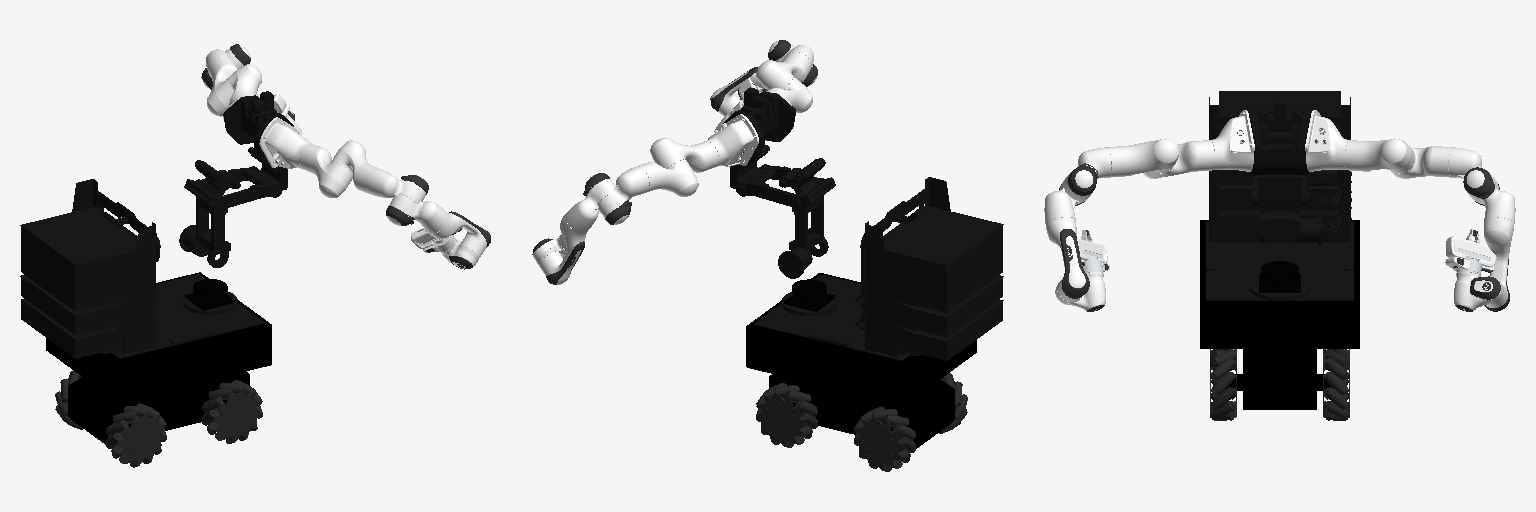
--- What the picture shows (computed from the rendered views, not written in the file) ---
The picture shows the robot from 3 angles, left to right: view 1: azimuth 30°, elevation 25°; view 2: azimuth 150°, elevation 25°; view 3: azimuth 270°, elevation 25°; orthographic projection.
Model curi with 38 links and 37 joints (17 revolute, 4 prismatic, 16 fixed), rooted at summit_xls_base_footprint, posed all joints at 0 but 2 set to mid-range because 0 is outside their limits (panda_left_joint4 = -1.57, panda_right_joint4 = -1.57).
Visible links, largest first — view 1: control_box, summit_xls_base_link, summit_xls_back_right_wheel_link, summit_xls_front_right_wheel_link, torso_link_b2, torso_end, torso_link_c1, panda_right_link0, panda_right_link1, panda_right_link4, panda_right_link3, panda_left_link2 (+7 smaller); view 2: control_box, summit_xls_base_link, summit_xls_back_left_wheel_link, summit_xls_front_left_wheel_link, torso_link_b2, torso_end, torso_link_c1, panda_left_link0, panda_left_link3, panda_left_link1, panda_left_link5, panda_left_link4 (+8 smaller); view 3: control_box, summit_xls_base_link, torso_end, panda_right_link2, panda_left_link1, panda_right_link5, panda_left_link0, panda_right_link0, summit_xls_front_left_wheel_link, summit_xls_front_right_wheel_link, panda_right_link3, panda_left_link4 (+10 smaller).
Boxes of the visible links, x1,y1,x2,y2 form: control_box: (20, 179, 263, 358); summit_xls_base_link: (46, 272, 271, 444); summit_xls_back_right_wheel_link: (106, 403, 166, 467); summit_xls_front_right_wheel_link: (202, 380, 262, 443); torso_link_b2: (179, 182, 230, 267); torso_end: (223, 95, 293, 189); torso_link_c1: (184, 166, 282, 210); panda_right_link0: (259, 117, 311, 168); panda_right_link1: (299, 144, 352, 197); panda_right_link4: (386, 193, 448, 232); panda_right_link3: (367, 169, 428, 203); panda_left_link2: (207, 57, 237, 116); control_box: (754, 177, 1003, 360); summit_xls_base_link: (746, 273, 976, 448); summit_xls_back_left_wheel_link: (854, 406, 915, 471); summit_xls_front_left_wheel_link: (756, 383, 817, 447); torso_link_b2: (778, 180, 828, 278); torso_end: (723, 92, 795, 188); torso_link_c1: (735, 164, 835, 209); panda_left_link0: (704, 114, 758, 166); panda_left_link3: (598, 167, 648, 224); panda_left_link1: (650, 138, 718, 172); panda_left_link5: (538, 214, 587, 284); panda_left_link4: (566, 173, 614, 232); control_box: (1206, 91, 1353, 300); summit_xls_base_link: (1200, 220, 1359, 409); torso_end: (1245, 108, 1314, 207); panda_right_link2: (1107, 138, 1178, 177); panda_left_link1: (1345, 138, 1414, 172); panda_right_link5: (1045, 217, 1089, 301); panda_left_link0: (1305, 110, 1348, 171); panda_right_link0: (1211, 110, 1254, 171); summit_xls_front_left_wheel_link: (1323, 351, 1349, 420); summit_xls_front_right_wheel_link: (1210, 351, 1236, 420); panda_right_link3: (1063, 147, 1111, 200); panda_left_link4: (1463, 167, 1515, 222).
Size in the robot's own frame: 1.62 by 1.7 by 1.39 metres.
Meshes: 23 distinct files referenced, 35 mesh visuals loaded (21 Collada DAE); not drawn: 2 (reference not matched to a file when rendering).

robot.urdf — curi:
<?xml version="1.0" ?>
<!-- =================================================================================== -->
<!-- |    This document was autogenerated by xacro from ../robots/curi.urdf.xacro      | -->
<!-- |    EDITING THIS FILE BY HAND IS NOT RECOMMENDED                                 | -->
<!-- =================================================================================== -->
<robot name="curi">
  <!-- in kg-->
  <!-- =============================================================== -->
  <!-- || This file does not contain official inertial properties   || -->
  <!-- || of panda robot. The values are from the identification    || -->
  <!-- || results published in: Identification of the Franka Emika  || -->
  <!-- || PandaRobot With Retrieval of Feasible Parameters Using    || -->
  <!-- || Penalty-Based Optimization                                || -->
  <!-- || by: Claudio Gaz, Marco Cognetti, Alexander Oliva,         || -->
  <!-- || Paolo Robuffo Giordano, Alessandro de Luca                || -->
  <!-- =============================================================== -->
  <link name="summit_xls_base_footprint">
    <visual>
      <origin rpy="0 0 0" xyz="0 0 0"/>
      <geometry>
        <box size="0.001 0.001 0.001"/>
      </geometry>
    </visual>
  </link>
  <joint name="summit_xls_base_footprint_joint" type="fixed">
    <origin rpy="0 0 0" xyz="0 0 0.127"/>
    <parent link="summit_xls_base_footprint"/>
    <child link="summit_xls_base_link"/>
  </joint>
  <!-- BASE_LINK -->
  <link name="summit_xls_base_link">
    <inertial>
      <mass value="125.0"/>
      <origin xyz="0 0 0"/>
      <inertia ixx="1.391" ixy="0.004" ixz="0.0" iyy="6.853" iyz="0.0" izz="6.125"/>
    </inertial>
    <visual>
      <origin rpy="0 0 0" xyz="0 0 0"/>
      <geometry>
        <mesh filename="../meshes/robotnik/bases/summit_xls_chassis.dae"/>
      </geometry>
      <material name="black">
        <color rgba="0.0 0.0 0.0 1"/>
      </material>
    </visual>
    <collision>
      <origin rpy="0 0 0 " xyz="0 0 0"/>
      <geometry>
        <mesh filename="../meshes/robotnik/bases/summit_xls_chassis.stl"/>
      </geometry>
    </collision>
  </link>
  <joint name="summit_xls_front_right_wheel_joint" type="fixed">
    <parent link="summit_xls_base_link"/>
    <child link="summit_xls_front_right_wheel_link"/>
    <origin rpy="0 0 0" xyz="0.2225 -0.2045 0.0"/>
  </joint>
  <link name="summit_xls_front_right_wheel_link">
    <visual>
      <origin rpy="0 0 0" xyz="0 0 0"/>
      <geometry>
        <mesh filename="../meshes/robotnik/wheels/omni_wheel_2.dae"/>
      </geometry>
      <material name="darkgrey">
        <color rgba="0.2 0.2 0.2 1"/>
      </material>
    </visual>
    <collision>
      <origin rpy="1.5707963267948966 0 0" xyz="0 0 0"/>
      <geometry>
        <cylinder length="0.087" radius="0.127"/>
      </geometry>
    </collision>
    <inertial>
      <mass value="6.5"/>
      <origin xyz="0 0 0"/>
      <inertia ixx="0.0303095" ixy="0" ixz="0" iyy="0.05241925" iyz="0" izz="0.0303095"/>
    </inertial>
  </link>
  <joint name="summit_xls_front_left_wheel_joint" type="fixed">
    <parent link="summit_xls_base_link"/>
    <child link="summit_xls_front_left_wheel_link"/>
    <origin rpy="0 0 0" xyz="0.2225 0.2045 0.0"/>
  </joint>
  <link name="summit_xls_front_left_wheel_link">
    <visual>
      <origin rpy="0 0 0" xyz="0 0 0"/>
      <geometry>
        <mesh filename="../meshes/robotnik/wheels/omni_wheel_1.dae"/>
      </geometry>
      <material name="darkgrey">
        <color rgba="0.2 0.2 0.2 1"/>
      </material>
    </visual>
    <collision>
      <origin rpy="1.5707963267948966 0 0" xyz="0 0 0"/>
      <geometry>
        <cylinder length="0.087" radius="0.127"/>
      </geometry>
    </collision>
    <inertial>
      <mass value="6.5"/>
      <origin xyz="0 0 0"/>
      <inertia ixx="0.0303095" ixy="0" ixz="0" iyy="0.05241925" iyz="0" izz="0.0303095"/>
    </inertial>
  </link>
  <joint name="summit_xls_back_left_wheel_joint" type="fixed">
    <parent link="summit_xls_base_link"/>
    <child link="summit_xls_back_left_wheel_link"/>
    <origin rpy="0 0 0" xyz="-0.2225 0.2045 0.0"/>
  </joint>
  <link name="summit_xls_back_left_wheel_link">
    <visual>
      <origin rpy="0 0 0" xyz="0 0 0"/>
      <geometry>
        <mesh filename="../meshes/robotnik/wheels/omni_wheel_1.dae"/>
      </geometry>
      <material name="darkgrey">
        <color rgba="0.2 0.2 0.2 1"/>
      </material>
    </visual>
    <collision>
      <origin rpy="1.5707963267948966 0 0" xyz="0 0 0"/>
      <geometry>
        <cylinder length="0.087" radius="0.127"/>
      </geometry>
    </collision>
    <inertial>
      <mass value="6.5"/>
      <origin xyz="0 0 0"/>
      <inertia ixx="0.0303095" ixy="0" ixz="0" iyy="0.05241925" iyz="0" izz="0.0303095"/>
    </inertial>
  </link>
  <joint name="summit_xls_back_right_wheel_joint" type="fixed">
    <parent link="summit_xls_base_link"/>
    <child link="summit_xls_back_right_wheel_link"/>
    <origin rpy="0 0 0" xyz="-0.2225 -0.2045 0.0"/>
  </joint>
  <link name="summit_xls_back_right_wheel_link">
    <visual>
      <origin rpy="0 0 0" xyz="0 0 0"/>
      <geometry>
        <mesh filename="../meshes/robotnik/wheels/omni_wheel_2.dae"/>
      </geometry>
      <material name="darkgrey">
        <color rgba="0.2 0.2 0.2 1"/>
      </material>
    </visual>
    <collision>
      <origin rpy="1.5707963267948966 0 0" xyz="0 0 0"/>
      <geometry>
        <cylinder length="0.087" radius="0.127"/>
      </geometry>
    </collision>
    <inertial>
      <mass value="6.5"/>
      <origin xyz="0 0 0"/>
      <inertia ixx="0.0303095" ixy="0" ixz="0" iyy="0.05241925" iyz="0" izz="0.0303095"/>
    </inertial>
  </link>
  <joint name="torso_joint_summit_xls_base_footprint" type="fixed">
    <parent link="summit_xls_base_footprint"/>
    <child link="control_box"/>
    <origin rpy="0 0 0" xyz="0 0 0.52262"/>
  </joint>
  <link name="control_box">
    <visual>
      <origin rpy="0 0 0" xyz="0 0 0"/>
      <geometry>
        <mesh filename="../meshes/clover/visual/control_box.dae"/>
      </geometry>
    </visual>
    <collision>
      <origin rpy="0 0 0" xyz="0 0 0"/>
      <geometry>
        <mesh filename="../meshes/clover/collision/control_box.stl"/>
      </geometry>
    </collision>
    <inertial>
      <!-- Estimated guesses from CAD -->
      <origin rpy="0 0 0" xyz="-0.221652 1.4173e-02 0.165597"/>
      <mass value="37.813"/>
      <inertia ixx="1.672305973" ixy="-0.023504956" ixz="-0.565170381" iyy="2.616747309" iyz="0.046623093" izz="2.524344244"/>
    </inertial>
  </link>
  <link name="torso_base1">
    <visual>
      <origin rpy="0 0 0" xyz="0 0 0"/>
      <geometry>
        <mesh filename="../meshes/clover/visual/torso_base1.dae"/>
      </geometry>
    </visual>
    <collision>
      <origin rpy="0 0 0" xyz="0 0 0"/>
      <geometry>
        <mesh filename="../meshes/clover/collision/torso_base1.stl"/>
      </geometry>
    </collision>
    <inertial>
      <origin rpy="0 0 0" xyz="0 0 0.02555"/>
      <mass value="1.18"/>
      <inertia ixx="0.00241116" ixy="0" ixz="0" iyy="0.00241116" iyz="0" izz="0.00362611"/>
    </inertial>
  </link>
  <joint name="torso_joint1" type="fixed">
    <origin rpy="0 0 0" xyz="0.2375 0 0.015"/>
    <parent link="control_box"/>
    <child link="torso_base1"/>
  </joint>
  <link name="torso_base2">
    <visual>
      <origin rpy="0 0 0" xyz="0 0 0"/>
      <geometry>
        <mesh filename="../meshes/clover/visual/torso_base2.dae"/>
      </geometry>
    </visual>
    <collision>
      <origin rpy="0 0 0" xyz="0 0 0"/>
      <geometry>
        <mesh filename="../meshes/clover/collision/torso_base2.stl"/>
      </geometry>
    </collision>
    <inertial>
      <origin rpy="0 0 0" xyz="-0.05478 0.03332 -0.07616"/>
      <mass value="35.66"/>
      <inertia ixx="0.87275935" ixy="-0.06173772" ixz="0.01895727" iyy="0.57302356" iyz="0.11888755" izz="1.06212354"/>
    </inertial>
  </link>
  <joint name="torso_actuated_joint1" type="revolute">
    <safety_controller k_position="100.0" k_velocity="40.0" soft_lower_limit="-1.5" soft_upper_limit="1.5"/>
    <origin rpy="0 0 0" xyz="0 0 0.215"/>
    <parent link="torso_base1"/>
    <child link="torso_base2"/>
    <axis xyz="0 0 1"/>
    <limit acceleration="0.6" effort="300" lower="-1.57" upper="1.57" velocity="0.3"/>
    <dynamics D="1" K="7000" damping="0.003" friction="0.0" mu_coulomb="0" mu_viscous="16"/>
  </joint>
  <link name="torso_link_b2">
    <visual>
      <origin rpy="0 0 0" xyz="0 0 0"/>
      <geometry>
        <mesh filename="../meshes/clover/visual/torso_link_b2.dae"/>
      </geometry>
    </visual>
    <collision>
      <origin rpy="0 0 0" xyz="0 0 0"/>
      <geometry>
        <mesh filename="../meshes/clover/collision/torso_link_b2.stl"/>
      </geometry>
    </collision>
    <inertial>
      <origin rpy="0 0 0" xyz="2.066e-03 2.4036e-02 8.3361e-02"/>
      <mass value="2.698"/>
      <inertia ixx="0.035907338" ixy="-0.000134319" ixz="0.000037769" iyy="0.023944853" iyz="-0.005304362" izz="0.014484777"/>
    </inertial>
  </link>
  <joint name="torso_actuated_joint2" type="fixed">
    <origin rpy="0 0 0" xyz="0 0 0"/>
    <parent link="torso_base2"/>
    <child link="torso_link_b2"/>
  </joint>
  <link name="torso_middle">
    <visual>
      <origin rpy="0 0 0" xyz="0 0 0"/>
      <geometry>
        <mesh filename="../meshes/clover/visual/torso_middle.dae"/>
      </geometry>
    </visual>
    <collision>
      <origin rpy="0 0 0" xyz="0 0 0"/>
      <geometry>
        <mesh filename="../meshes/clover/collision/torso_middle.stl"/>
      </geometry>
    </collision>
    <inertial>
      <origin rpy="0 0 0" xyz="3.2089e-02 0 4.789e-02"/>
      <mass value="2.688"/>
      <inertia ixx="0.00744652" ixy="-0.00003495" ixz="0.000230038" iyy="0.006884728" iyz="0.000041279" izz="0.008084049"/>
    </inertial>
  </link>
  <joint name="torso_joint5" type="fixed">
    <origin rpy="0 0 0" xyz="0 0 0.25"/>
    <parent link="torso_link_b2"/>
    <child link="torso_middle"/>
  </joint>
  <link name="torso_link_c1">
    <visual>
      <origin rpy="0 0 0" xyz="0 0 0"/>
      <geometry>
        <mesh filename="../meshes/clover/visual/torso_link_c1.dae"/>
      </geometry>
    </visual>
    <collision>
      <origin rpy="0 0 0" xyz="0 0 0"/>
      <geometry>
        <mesh filename="../meshes/clover/collision/torso_link_c1.stl"/>
      </geometry>
    </collision>
    <inertial>
      <origin rpy="0 0 0" xyz="0.10533 1.503e-03 9.863e-03"/>
      <mass value="2.4"/>
      <inertia ixx="0.014986407" ixy="-1.7102e-05" ixz="-4.53321e-04" iyy="0.027549549" iyz="-3.557e-05" izz="0.041344611"/>
    </inertial>
  </link>
  <joint name="torso_actuated_joint3" type="fixed">
    <origin rpy="0 0 0" xyz="0 0 0"/>
    <parent link="torso_middle"/>
    <child link="torso_link_c1"/>
  </joint>
  <link name="torso_end">
    <visual>
      <origin rpy="0 0 0" xyz="0 0 0"/>
      <geometry>
        <mesh filename="../meshes/clover/visual/torso_end.dae"/>
      </geometry>
    </visual>
    <collision>
      <origin rpy="0 0 0" xyz="0 0 0"/>
      <geometry>
        <mesh filename="../meshes/clover/collision/torso_end.stl"/>
      </geometry>
    </collision>
    <inertial>
      <origin rpy="0 0 0" xyz="1.3086e-02 0.132e-03 0.184066"/>
      <mass value="12.083"/>
      <inertia ixx="0.146638956" ixy="-2.2432e-05" ixz="-0.012989506" iyy="0.097685785" iyz="-2.19304e-04" izz="0.100449047"/>
    </inertial>
  </link>
  <joint name="torso_joint8" type="fixed">
    <origin rpy="0 0 0" xyz="0.25 0 0"/>
    <parent link="torso_link_c1"/>
    <child link="torso_end"/>
  </joint>
  <joint name="head_joint_torso_end" type="fixed">
    <parent link="torso_end"/>
    <child link="head_base"/>
    <origin rpy="0 0 0" xyz="0.01466 0 0.2775"/>
  </joint>
  <link name="head_base">
    <visual>
      <origin rpy="0 0 0" xyz="0 0 0"/>
      <geometry>
        <mesh filename="../meshes/clover/visual/head_base.dae"/>
      </geometry>
    </visual>
    <collision>
      <origin rpy="0 0 0" xyz="0 0 0"/>
      <geometry>
        <mesh filename="../meshes/clover/collision/head_base.stl"/>
      </geometry>
    </collision>
    <inertial>
      <!-- Estimated guesses from CAD -->
      <origin rpy="0 0 0" xyz="-1.9726e-02 1.281e-03 2.2693e-02"/>
      <mass value="0.803"/>
      <inertia ixx="6.56432e-04" ixy="-3.4976e-05" ixz="0.652e-6" iyy="6.42664e-04" iyz="-1.577e-06" izz="1.046862e-03"/>
    </inertial>
  </link>
  <joint name="head_actuated_joint1" type="revolute">
    <safety_controller k_position="100.0" k_velocity="40.0" soft_lower_limit="-1.5" soft_upper_limit="1.5"/>
    <origin rpy="0 0 0" xyz="0 0 0.045"/>
    <parent link="head_base"/>
    <child link="head_link1"/>
    <axis xyz="0 0 1"/>
    <limit effort="30" lower="-1.57" upper="1.57" velocity="1.0"/>
    <dynamics D="1" K="7000" damping="0.003" friction="0.0" mu_coulomb="0" mu_viscous="16"/>
  </joint>
  <link name="head_link1">
    <visual>
      <origin rpy="0 0 0" xyz="0 0 0"/>
      <geometry>
        <mesh filename="../meshes/clover/visual/head_link1.dae"/>
      </geometry>
    </visual>
    <collision>
      <origin rpy="0 0 0" xyz="0 0 0"/>
      <geometry>
        <mesh filename="../meshes/clover/collision/head_link1.stl"/>
      </geometry>
    </collision>
    <inertial>
      <!-- Estimated guesses from CAD -->
      <origin rpy="0 0 0" xyz="-1.8392e-02 -0.4e-03 2.8338e-02"/>
      <mass value="0.534"/>
      <inertia ixx="2.34142e-04" ixy="-3.129e-06" ixz="6.321e-05" iyy="5.09246e-04" iyz="1.49e-06" izz="4.3777e-04"/>
    </inertial>
  </link>
  <joint name="head_actuated_joint2" type="revolute">
    <safety_controller k_position="100.0" k_velocity="40.0" soft_lower_limit="-0.8" soft_upper_limit="0.5"/>
    <origin rpy="0 0 0" xyz="0 0 0.043"/>
    <parent link="head_link1"/>
    <child link="head_link2"/>
    <axis xyz="0 1 0"/>
    <limit effort="30" lower="-0.82" upper="0.52" velocity="1.0"/>
    <dynamics D="1" K="7000" damping="0.003" friction="0.0" mu_coulomb="0" mu_viscous="16"/>
  </joint>
  <link name="head_link2">
    <visual>
      <origin rpy="0 0 0" xyz="0 0 0"/>
      <geometry>
        <mesh filename="../meshes/clover/visual/head_link2.dae"/>
      </geometry>
    </visual>
    <collision>
      <origin rpy="0 0 0" xyz="0 0 0"/>
      <geometry>
        <mesh filename="../meshes/clover/collision/head_link2.stl"/>
      </geometry>
    </collision>
    <inertial>
      <!-- Estimated guesses from CAD -->
      <origin rpy="0 0 0" xyz="3.8624e-02 0 0.143829"/>
      <mass value="1.346"/>
      <inertia ixx="0.010306864" ixy="-5.953e-06" ixz="6.74795e-04" iyy="0.011632066" iyz="-1.125e-06" izz="0.009582498"/>
    </inertial>
  </link>
  <joint name="panda_left_joint_torso_end" type="fixed">
    <parent link="torso_end"/>
    <child link="panda_left_link0"/>
    <origin rpy="-1.5004311592913677 0.8772798703277918 -0.2038499389018784" xyz="0.02842 0.11216 0.19004"/>
  </joint>
  <link name="panda_left_link0">
    <visual>
      <origin rpy="0 0 0" xyz="0 0 0"/>
      <geometry>
        <mesh filename="../meshes/franka/visual/link0.dae"/>
      </geometry>
    </visual>
    <collision>
      <origin rpy="0 0 0" xyz="0 0 0"/>
      <geometry>
        <mesh filename="../meshes/franka/collision/link0.stl"/>
      </geometry>
    </collision>
    <inertial>
      <!-- Estimated guesses from CAD -->
      <origin rpy="0 0 0" xyz="-0.041018 -0.00014 0.049974"/>
      <mass value="0.629769"/>
      <inertia ixx="0.00315" ixy="8.2904E-07" ixz="0.00015" iyy="0.00388" iyz="8.2299E-06" izz="0.004285"/>
    </inertial>
  </link>
  <link name="panda_left_link1">
    <visual>
      <origin rpy="0 0 0" xyz="0 0 0"/>
      <geometry>
        <mesh filename="../meshes/franka/visual/link1.dae"/>
      </geometry>
    </visual>
    <collision>
      <origin rpy="0 0 0" xyz="0 0 0"/>
      <geometry>
        <mesh filename="../meshes/franka/collision/link1.stl"/>
      </geometry>
    </collision>
    <inertial>
      <origin rpy="0 0 0" xyz="0.003875 0.002081 -0.04762"/>
      <mass value="4.970684"/>
      <inertia ixx="0.70337" ixy="-0.00013900" ixz="0.0067720" iyy="0.70661" iyz="0.019169" izz="0.0091170"/>
    </inertial>
  </link>
  <joint name="panda_left_joint1" type="revolute">
    <safety_controller k_position="100.0" k_velocity="40.0" soft_lower_limit="-2.8973" soft_upper_limit="2.8973"/>
    <origin rpy="0 0 0" xyz="0 0 0.333"/>
    <parent link="panda_left_link0"/>
    <child link="panda_left_link1"/>
    <axis xyz="0 0 1"/>
    <limit acceleration="15" effort="87" lower="-2.8973" upper="2.8973" velocity="2.1750"/>
    <dynamics D="1" K="7000" damping="0.003" friction="0.0" mu_coulomb="0" mu_viscous="16"/>
  </joint>
  <link name="panda_left_link2">
    <visual>
      <origin rpy="0 0 0" xyz="0 0 0"/>
      <geometry>
        <mesh filename="../meshes/franka/visual/link2.dae"/>
      </geometry>
    </visual>
    <collision>
      <origin rpy="0 0 0" xyz="0 0 0"/>
      <geometry>
        <mesh filename="../meshes/franka/collision/link2.stl"/>
      </geometry>
    </collision>
    <inertial>
      <origin rpy="0 0 0" xyz=" -0.003141 -0.02872  0.003495"/>
      <mass value="0.646926"/>
      <inertia ixx="0.0079620" ixy="-3.9250e-3" ixz="1.0254e-02" iyy="2.8110e-02" iyz="7.0400e-04" izz="2.5995e-02"/>
    </inertial>
  </link>
  <joint name="panda_left_joint2" type="revolute">
    <safety_controller k_position="100.0" k_velocity="40.0" soft_lower_limit="-1.7628" soft_upper_limit="1.7628"/>
    <origin rpy="-1.5707963267948966 0 0" xyz="0 0 0"/>
    <parent link="panda_left_link1"/>
    <child link="panda_left_link2"/>
    <axis xyz="0 0 1"/>
    <limit acceleration="7.5" effort="87" lower="-1.7628" upper="1.7628" velocity="2.1750"/>
    <dynamics D="1" K="7000" damping="0.003" friction="0.0" mu_coulomb="0" mu_viscous="16"/>
  </joint>
  <link name="panda_left_link3">
    <visual>
      <origin rpy="0 0 0" xyz="0 0 0"/>
      <geometry>
        <mesh filename="../meshes/franka/visual/link3.dae"/>
      </geometry>
    </visual>
    <collision>
      <origin rpy="0 0 0" xyz="0 0 0"/>
      <geometry>
        <mesh filename="../meshes/franka/collision/link3.stl"/>
      </geometry>
    </collision>
    <inertial>
      <origin rpy="0 0 0" xyz="2.7518e-02 3.9252e-02 -6.6502e-02"/>
      <mass value="3.228604"/>
      <inertia ixx="3.7242e-02" ixy="-4.7610e-03" ixz="-1.1396e-02" iyy="3.6155e-02" iyz="-1.2805e-02" izz="1.0830e-02"/>
    </inertial>
  </link>
  <joint name="panda_left_joint3" type="revolute">
    <safety_controller k_position="100.0" k_velocity="40.0" soft_lower_limit="-2.8973" soft_upper_limit="2.8973"/>
    <origin rpy="1.5707963267948966 0 0" xyz="0 -0.316 0"/>
    <parent link="panda_left_link2"/>
    <child link="panda_left_link3"/>
    <axis xyz="0 0 1"/>
    <limit acceleration="12.5" effort="87" lower="-2.8973" upper="2.8973" velocity="2.1750"/>
    <dynamics D="1" K="7000" damping="0.003" friction="0.0" mu_coulomb="0" mu_viscous="16"/>
  </joint>
  <link name="panda_left_link4">
    <visual>
      <origin rpy="0 0 0" xyz="0 0 0"/>
      <geometry>
        <mesh filename="../meshes/franka/visual/link4.dae"/>
      </geometry>
    </visual>
    <collision>
      <origin rpy="0 0 0" xyz="0 0 0"/>
      <geometry>
        <mesh filename="../meshes/franka/collision/link4.stl"/>
      </geometry>
    </collision>
    <inertial>
      <origin rpy="0 0 0" xyz="-5.317e-02 1.04419e-01 2.7454e-02"/>
      <mass value="3.587895"/>
      <inertia ixx="2.5853e-02" ixy="7.7960e-03" ixz="-1.3320e-03" iyy="1.9552e-02" iyz="8.6410e-03" izz="2.8323e-02"/>
    </inertial>
  </link>
  <joint name="panda_left_joint4" type="revolute">
    <safety_controller k_position="100.0" k_velocity="40.0" soft_lower_limit="-3.0718" soft_upper_limit="-0.0698"/>
    <origin rpy="1.5707963267948966 0 0" xyz="0.0825 0 0"/>
    <parent link="panda_left_link3"/>
    <child link="panda_left_link4"/>
    <axis xyz="0 0 1"/>
    <limit acceleration="12.5" effort="87" lower="-3.0718" upper="-0.0698" velocity="2.1750"/>
    <dynamics D="1" K="7000" damping="0.003" friction="0.0" mu_coulomb="0" mu_viscous="16"/>
  </joint>
  <link name="panda_left_link5">
    <visual>
      <origin rpy="0 0 0" xyz="0 0 0"/>
      <geometry>
        <mesh filename="../meshes/franka/visual/link5.dae"/>
      </geometry>
    </visual>
    <collision>
      <origin rpy="0 0 0" xyz="0 0 0"/>
      <geometry>
        <mesh filename="../meshes/franka/collision/link5.stl"/>
      </geometry>
    </collision>
    <inertial>
      <origin rpy="0 0 0" xyz="-1.1953e-02 4.1065e-02 -3.8437e-02"/>
      <mass value="1.225946"/>
      <inertia ixx="3.5549e-02" ixy="-2.1170e-03" ixz="-4.0370e-03" iyy="2.9474e-02" iyz="2.2900e-04" izz="8.6270e-03"/>
    </inertial>
  </link>
  <joint name="panda_left_joint5" type="revolute">
    <safety_controller k_position="100.0" k_velocity="40.0" soft_lower_limit="-2.8973" soft_upper_limit="2.8973"/>
    <origin rpy="-1.5707963267948966 0 0" xyz="-0.0825 0.384 0"/>
    <parent link="panda_left_link4"/>
    <child link="panda_left_link5"/>
    <axis xyz="0 0 1"/>
    <limit acceleration="15" effort="12" lower="-2.8973" upper="2.8973" velocity="2.6100"/>
    <dynamics D="1" K="7000" damping="0.003" friction="0.0" mu_coulomb="0" mu_viscous="16"/>
  </joint>
  <link name="panda_left_link6">
    <visual>
      <origin rpy="0 0 0" xyz="0 0 0"/>
      <geometry>
        <mesh filename="../meshes/franka/visual/link6.dae"/>
      </geometry>
    </visual>
    <collision>
      <origin rpy="0 0 0" xyz="0 0 0"/>
      <geometry>
        <mesh filename="../meshes/franka/collision/link6.stl"/>
      </geometry>
    </collision>
    <inertial>
      <origin rpy="0 0 0" xyz="6.0149e-02 -1.4117e-02 -1.0517e-02"/>
      <mass value="1.666555"/>
      <inertia ixx="1.9640e-03" ixy="1.0900e-04" ixz="-1.1580e-03" iyy="4.3540e-03" iyz="3.4100e-04" izz="5.4330e-03"/>
    </inertial>
  </link>
  <joint name="panda_left_joint6" type="revolute">
    <safety_controller k_position="100.0" k_velocity="40.0" soft_lower_limit="-0.0175" soft_upper_limit="3.7525"/>
    <origin rpy="1.5707963267948966 0 0" xyz="0 0 0"/>
    <parent link="panda_left_link5"/>
    <child link="panda_left_link6"/>
    <axis xyz="0 0 1"/>
    <limit acceleration="20" effort="12" lower="-0.0175" upper="3.7525" velocity="2.6100"/>
    <dynamics D="1" K="7000" damping="0.003" friction="0.0" mu_coulomb="0" mu_viscous="16"/>
  </joint>
  <link name="panda_left_link7">
    <visual>
      <origin rpy="0 0 0" xyz="0 0 0"/>
      <geometry>
        <mesh filename="../meshes/franka/visual/link7.dae"/>
      </geometry>
    </visual>
    <collision>
      <origin rpy="0 0 0" xyz="0 0 0"/>
      <geometry>
        <mesh filename="../meshes/franka/collision/link7.stl"/>
      </geometry>
    </collision>
    <inertial>
      <origin rpy="0 0 0" xyz="1.0517e-02 -4.252e-03 6.1597e-02"/>
      <mass value="7.35522e-01"/>
      <inertia ixx="1.2516e-02" ixy="-4.2800e-04" ixz="-1.1960e-03" iyy="1.0027e-02" iyz="-7.4100e-04" izz="4.8150e-03"/>
    </inertial>
  </link>
  <joint name="panda_left_joint7" type="revolute">
    <safety_controller k_position="100.0" k_velocity="40.0" soft_lower_limit="-2.8973" soft_upper_limit="2.8973"/>
    <origin rpy="1.5707963267948966 0 0" xyz="0.088 0 0"/>
    <parent link="panda_left_link6"/>
    <child link="panda_left_link7"/>
    <axis xyz="0 0 1"/>
    <limit acceleration="20" effort="12" lower="-2.8973" upper="2.8973" velocity="2.6100"/>
    <dynamics D="1" K="7000" damping="0.003" friction="0.0" mu_coulomb="0" mu_viscous="16"/>
  </joint>
  <joint name="panda_right_joint_torso_end" type="fixed">
    <parent link="torso_end"/>
    <child link="panda_right_link0"/>
    <origin rpy="1.5004311592913677 0.8772798703277918 0.2038499389018784" xyz="0.02842 -0.11216 0.19004"/>
  </joint>
  <link name="panda_right_link0">
    <visual>
      <origin rpy="0 0 0" xyz="0 0 0"/>
      <geometry>
        <mesh filename="../meshes/franka/visual/link0.dae"/>
      </geometry>
    </visual>
    <collision>
      <origin rpy="0 0 0" xyz="0 0 0"/>
      <geometry>
        <mesh filename="../meshes/franka/collision/link0.stl"/>
      </geometry>
    </collision>
    <inertial>
      <!-- Estimated guesses from CAD -->
      <origin rpy="0 0 0" xyz="-0.041018 -0.00014 0.049974"/>
      <mass value="0.629769"/>
      <inertia ixx="0.00315" ixy="8.2904E-07" ixz="0.00015" iyy="0.00388" iyz="8.2299E-06" izz="0.004285"/>
    </inertial>
  </link>
  <link name="panda_right_link1">
    <visual>
      <origin rpy="0 0 0" xyz="0 0 0"/>
      <geometry>
        <mesh filename="../meshes/franka/visual/link1.dae"/>
      </geometry>
    </visual>
    <collision>
      <origin rpy="0 0 0" xyz="0 0 0"/>
      <geometry>
        <mesh filename="../meshes/franka/collision/link1.stl"/>
      </geometry>
    </collision>
    <inertial>
      <origin rpy="0 0 0" xyz="0.003875 0.002081 -0.04762"/>
      <mass value="4.970684"/>
      <inertia ixx="0.70337" ixy="-0.00013900" ixz="0.0067720" iyy="0.70661" iyz="0.019169" izz="0.0091170"/>
    </inertial>
  </link>
  <joint name="panda_right_joint1" type="revolute">
    <safety_controller k_position="100.0" k_velocity="40.0" soft_lower_limit="-2.8973" soft_upper_limit="2.8973"/>
    <origin rpy="0 0 0" xyz="0 0 0.333"/>
    <parent link="panda_right_link0"/>
    <child link="panda_right_link1"/>
    <axis xyz="0 0 1"/>
    <limit acceleration="15" effort="87" lower="-2.8973" upper="2.8973" velocity="2.1750"/>
    <dynamics D="1" K="7000" damping="0.003" friction="0.0" mu_coulomb="0" mu_viscous="16"/>
  </joint>
  <link name="panda_right_link2">
    <visual>
      <origin rpy="0 0 0" xyz="0 0 0"/>
      <geometry>
        <mesh filename="../meshes/franka/visual/link2.dae"/>
      </geometry>
    </visual>
    <collision>
      <origin rpy="0 0 0" xyz="0 0 0"/>
      <geometry>
        <mesh filename="../meshes/franka/collision/link2.stl"/>
      </geometry>
    </collision>
    <inertial>
      <origin rpy="0 0 0" xyz=" -0.003141 -0.02872  0.003495"/>
      <mass value="0.646926"/>
      <inertia ixx="0.0079620" ixy="-3.9250e-3" ixz="1.0254e-02" iyy="2.8110e-02" iyz="7.0400e-04" izz="2.5995e-02"/>
    </inertial>
  </link>
  <joint name="panda_right_joint2" type="revolute">
    <safety_controller k_position="100.0" k_velocity="40.0" soft_lower_limit="-1.7628" soft_upper_limit="1.7628"/>
    <origin rpy="-1.5707963267948966 0 0" xyz="0 0 0"/>
    <parent link="panda_right_link1"/>
    <child link="panda_right_link2"/>
    <axis xyz="0 0 1"/>
    <limit acceleration="7.5" effort="87" lower="-1.7628" upper="1.7628" velocity="2.1750"/>
    <dynamics D="1" K="7000" damping="0.003" friction="0.0" mu_coulomb="0" mu_viscous="16"/>
  </joint>
  <link name="panda_right_link3">
    <visual>
      <origin rpy="0 0 0" xyz="0 0 0"/>
      <geometry>
        <mesh filename="../meshes/franka/visual/link3.dae"/>
      </geometry>
    </visual>
    <collision>
      <origin rpy="0 0 0" xyz="0 0 0"/>
      <geometry>
        <mesh filename="../meshes/franka/collision/link3.stl"/>
      </geometry>
    </collision>
    <inertial>
      <origin rpy="0 0 0" xyz="2.7518e-02 3.9252e-02 -6.6502e-02"/>
      <mass value="3.228604"/>
      <inertia ixx="3.7242e-02" ixy="-4.7610e-03" ixz="-1.1396e-02" iyy="3.6155e-02" iyz="-1.2805e-02" izz="1.0830e-02"/>
    </inertial>
  </link>
  <joint name="panda_right_joint3" type="revolute">
    <safety_controller k_position="100.0" k_velocity="40.0" soft_lower_limit="-2.8973" soft_upper_limit="2.8973"/>
    <origin rpy="1.5707963267948966 0 0" xyz="0 -0.316 0"/>
    <parent link="panda_right_link2"/>
    <child link="panda_right_link3"/>
    <axis xyz="0 0 1"/>
    <limit acceleration="12.5" effort="87" lower="-2.8973" upper="2.8973" velocity="2.1750"/>
    <dynamics D="1" K="7000" damping="0.003" friction="0.0" mu_coulomb="0" mu_viscous="16"/>
  </joint>
  <link name="panda_right_link4">
    <visual>
      <origin rpy="0 0 0" xyz="0 0 0"/>
      <geometry>
        <mesh filename="../meshes/franka/visual/link4.dae"/>
      </geometry>
    </visual>
    <collision>
      <origin rpy="0 0 0" xyz="0 0 0"/>
      <geometry>
        <mesh filename="../meshes/franka/collision/link4.stl"/>
      </geometry>
    </collision>
    <inertial>
      <origin rpy="0 0 0" xyz="-5.317e-02 1.04419e-01 2.7454e-02"/>
      <mass value="3.587895"/>
      <inertia ixx="2.5853e-02" ixy="7.7960e-03" ixz="-1.3320e-03" iyy="1.9552e-02" iyz="8.6410e-03" izz="2.8323e-02"/>
    </inertial>
  </link>
  <joint name="panda_right_joint4" type="revolute">
    <safety_controller k_position="100.0" k_velocity="40.0" soft_lower_limit="-3.0718" soft_upper_limit="-0.0698"/>
    <origin rpy="1.5707963267948966 0 0" xyz="0.0825 0 0"/>
    <parent link="panda_right_link3"/>
    <child link="panda_right_link4"/>
    <axis xyz="0 0 1"/>
    <limit acceleration="12.5" effort="87" lower="-3.0718" upper="-0.0698" velocity="2.1750"/>
    <dynamics D="1" K="7000" damping="0.003" friction="0.0" mu_coulomb="0" mu_viscous="16"/>
  </joint>
  <link name="panda_right_link5">
    <visual>
      <origin rpy="0 0 0" xyz="0 0 0"/>
      <geometry>
        <mesh filename="../meshes/franka/visual/link5.dae"/>
      </geometry>
    </visual>
    <collision>
      <origin rpy="0 0 0" xyz="0 0 0"/>
      <geometry>
        <mesh filename="../meshes/franka/collision/link5.stl"/>
      </geometry>
    </collision>
    <inertial>
      <origin rpy="0 0 0" xyz="-1.1953e-02 4.1065e-02 -3.8437e-02"/>
      <mass value="1.225946"/>
      <inertia ixx="3.5549e-02" ixy="-2.1170e-03" ixz="-4.0370e-03" iyy="2.9474e-02" iyz="2.2900e-04" izz="8.6270e-03"/>
    </inertial>
  </link>
  <joint name="panda_right_joint5" type="revolute">
    <safety_controller k_position="100.0" k_velocity="40.0" soft_lower_limit="-2.8973" soft_upper_limit="2.8973"/>
    <origin rpy="-1.5707963267948966 0 0" xyz="-0.0825 0.384 0"/>
    <parent link="panda_right_link4"/>
    <child link="panda_right_link5"/>
    <axis xyz="0 0 1"/>
    <limit acceleration="15" effort="12" lower="-2.8973" upper="2.8973" velocity="2.6100"/>
    <dynamics D="1" K="7000" damping="0.003" friction="0.0" mu_coulomb="0" mu_viscous="16"/>
  </joint>
  <link name="panda_right_link6">
    <visual>
      <origin rpy="0 0 0" xyz="0 0 0"/>
      <geometry>
        <mesh filename="../meshes/franka/visual/link6.dae"/>
      </geometry>
    </visual>
    <collision>
      <origin rpy="0 0 0" xyz="0 0 0"/>
      <geometry>
        <mesh filename="../meshes/franka/collision/link6.stl"/>
      </geometry>
    </collision>
    <inertial>
      <origin rpy="0 0 0" xyz="6.0149e-02 -1.4117e-02 -1.0517e-02"/>
      <mass value="1.666555"/>
      <inertia ixx="1.9640e-03" ixy="1.0900e-04" ixz="-1.1580e-03" iyy="4.3540e-03" iyz="3.4100e-04" izz="5.4330e-03"/>
    </inertial>
  </link>
  <joint name="panda_right_joint6" type="revolute">
    <safety_controller k_position="100.0" k_velocity="40.0" soft_lower_limit="-0.0175" soft_upper_limit="3.7525"/>
    <origin rpy="1.5707963267948966 0 0" xyz="0 0 0"/>
    <parent link="panda_right_link5"/>
    <child link="panda_right_link6"/>
    <axis xyz="0 0 1"/>
    <limit acceleration="20" effort="12" lower="-0.0175" upper="3.7525" velocity="2.6100"/>
    <dynamics D="1" K="7000" damping="0.003" friction="0.0" mu_coulomb="0" mu_viscous="16"/>
  </joint>
  <link name="panda_right_link7">
    <visual>
      <origin rpy="0 0 0" xyz="0 0 0"/>
      <geometry>
        <mesh filename="../meshes/franka/visual/link7.dae"/>
      </geometry>
    </visual>
    <collision>
      <origin rpy="0 0 0" xyz="0 0 0"/>
      <geometry>
        <mesh filename="../meshes/franka/collision/link7.stl"/>
      </geometry>
    </collision>
    <inertial>
      <origin rpy="0 0 0" xyz="1.0517e-02 -4.252e-03 6.1597e-02"/>
      <mass value="7.35522e-01"/>
      <inertia ixx="1.2516e-02" ixy="-4.2800e-04" ixz="-1.1960e-03" iyy="1.0027e-02" iyz="-7.4100e-04" izz="4.8150e-03"/>
    </inertial>
  </link>
  <joint name="panda_right_joint7" type="revolute">
    <safety_controller k_position="100.0" k_velocity="40.0" soft_lower_limit="-2.8973" soft_upper_limit="2.8973"/>
    <origin rpy="1.5707963267948966 0 0" xyz="0.088 0 0"/>
    <parent link="panda_right_link6"/>
    <child link="panda_right_link7"/>
    <axis xyz="0 0 1"/>
    <limit acceleration="20" effort="12" lower="-2.8973" upper="2.8973" velocity="2.6100"/>
    <dynamics D="1" K="7000" damping="0.003" friction="0.0" mu_coulomb="0" mu_viscous="16"/>
  </joint>
  <joint name="panda_left_hand_joint" type="fixed">
    <parent link="panda_left_link7"/>
    <child link="panda_left_hand"/>
    <origin rpy="0 0 -0.7853981633974483" xyz="0 0 0.107"/>
  </joint>
  <link name="panda_left_hand">
    <visual>
      <geometry>
        <mesh filename="../meshes/franka/visual/hand.dae"/>
      </geometry>
    </visual>
    <collision>
      <geometry>
        <mesh filename="../meshes/franka/collision/hand.stl"/>
      </geometry>
    </collision>
    <inertial>
      <mass value="0.73"/>
      <origin xyz="-0.01 0 0.03"/>
      <inertia ixx="0.001" ixy="0" ixz="0" iyy="0.0025" iyz="0" izz="0.0017"/>
    </inertial>
  </link>
  <link name="panda_left_leftfinger">
    <inertial>
      <mass value="0.015"/>
      <inertia ixx="2.3749999999999997e-06" ixy="0" ixz="0" iyy="2.3749999999999997e-06" iyz="0" izz="7.5e-07"/>
    </inertial>
    <visual>
      <geometry>
        <mesh filename="../meshes/franka/visual/finger.dae"/>
      </geometry>
    </visual>
    <!-- screw mount -->
    <collision>
      <origin rpy="0 0 0" xyz="0 +18.5e-3 11e-3"/>
      <geometry>
        <box size="22e-3 15e-3 20e-3"/>
      </geometry>
    </collision>
    <!-- cartriage sledge -->
    <collision>
      <origin rpy="0 0 0" xyz="0 +6.8e-3 2.2e-3"/>
      <geometry>
        <box size="22e-3 8.8e-3 3.8e-3"/>
      </geometry>
    </collision>
    <!-- diagonal finger -->
    <collision>
      <origin rpy="+0.5235987755982988 0 0" xyz="0 +15.9e-3 28.35e-3"/>
      <geometry>
        <box size="17.5e-3 7e-3 23.5e-3"/>
      </geometry>
    </collision>
    <!-- rubber tip with which to grasp -->
    <collision>
      <origin rpy="0 0 0" xyz="0 +7.58e-3 45.25e-3"/>
      <geometry>
        <box size="17.5e-3 15.2e-3 18.5e-3"/>
      </geometry>
    </collision>
  </link>
  <link name="panda_left_rightfinger">
    <inertial>
      <mass value="0.015"/>
      <inertia ixx="2.3749999999999997e-06" ixy="0" ixz="0" iyy="2.3749999999999997e-06" iyz="0" izz="7.5e-07"/>
    </inertial>
    <visual>
      <origin rpy="0 0 3.141592653589793" xyz="0 0 0"/>
      <geometry>
        <mesh filename="../meshes/franka/visual/finger.dae"/>
      </geometry>
    </visual>
    <!-- screw mount -->
    <collision>
      <origin rpy="0 0 0" xyz="0 -18.5e-3 11e-3"/>
      <geometry>
        <box size="22e-3 15e-3 20e-3"/>
      </geometry>
    </collision>
    <!-- cartriage sledge -->
    <collision>
      <origin rpy="0 0 0" xyz="0 -6.8e-3 2.2e-3"/>
      <geometry>
        <box size="22e-3 8.8e-3 3.8e-3"/>
      </geometry>
    </collision>
    <!-- diagonal finger -->
    <collision>
      <origin rpy="-0.5235987755982988 0 0" xyz="0 -15.9e-3 28.35e-3"/>
      <geometry>
        <box size="17.5e-3 7e-3 23.5e-3"/>
      </geometry>
    </collision>
    <!-- rubber tip with which to grasp -->
    <collision>
      <origin rpy="0 0 0" xyz="0 -7.58e-3 45.25e-3"/>
      <geometry>
        <box size="17.5e-3 15.2e-3 18.5e-3"/>
      </geometry>
    </collision>
  </link>
  <joint name="panda_left_finger_joint1" type="prismatic">
    <parent link="panda_left_hand"/>
    <child link="panda_left_leftfinger"/>
    <origin rpy="0 0 0" xyz="0 0 0.0584"/>
    <axis xyz="0 1 0"/>
    <limit effort="100" lower="0.0" upper="0.04" velocity="0.2"/>
    <dynamics damping="0.03" friction="0.0"/>
  </joint>
  <joint name="panda_left_finger_joint2" type="prismatic">
    <parent link="panda_left_hand"/>
    <child link="panda_left_rightfinger"/>
    <origin rpy="0 0 0" xyz="0 0 0.0584"/>
    <axis xyz="0 -1 0"/>
    <limit effort="100" lower="0.0" upper="0.04" velocity="0.2"/>
    <dynamics damping="0.03" friction="0.0"/>
  </joint>
  <joint name="panda_right_hand_joint" type="fixed">
    <parent link="panda_right_link7"/>
    <child link="panda_right_hand"/>
    <origin rpy="0 0 -0.7853981633974483" xyz="0 0 0.107"/>
  </joint>
  <link name="panda_right_hand">
    <visual>
      <geometry>
        <mesh filename="../meshes/franka/visual/hand.dae"/>
      </geometry>
    </visual>
    <collision>
      <geometry>
        <mesh filename="../meshes/franka/collision/hand.stl"/>
      </geometry>
    </collision>
    <inertial>
      <mass value="0.73"/>
      <origin xyz="-0.01 0 0.03"/>
      <inertia ixx="0.001" ixy="0" ixz="0" iyy="0.0025" iyz="0" izz="0.0017"/>
    </inertial>
  </link>
  <link name="panda_right_leftfinger">
    <inertial>
      <mass value="0.015"/>
      <inertia ixx="2.3749999999999997e-06" ixy="0" ixz="0" iyy="2.3749999999999997e-06" iyz="0" izz="7.5e-07"/>
    </inertial>
    <visual>
      <geometry>
        <mesh filename="../meshes/franka/visual/finger.dae"/>
      </geometry>
    </visual>
    <!-- screw mount -->
    <collision>
      <origin rpy="0 0 0" xyz="0 +18.5e-3 11e-3"/>
      <geometry>
        <box size="22e-3 15e-3 20e-3"/>
      </geometry>
    </collision>
    <!-- cartriage sledge -->
    <collision>
      <origin rpy="0 0 0" xyz="0 +6.8e-3 2.2e-3"/>
      <geometry>
        <box size="22e-3 8.8e-3 3.8e-3"/>
      </geometry>
    </collision>
    <!-- diagonal finger -->
    <collision>
      <origin rpy="+0.5235987755982988 0 0" xyz="0 +15.9e-3 28.35e-3"/>
      <geometry>
        <box size="17.5e-3 7e-3 23.5e-3"/>
      </geometry>
    </collision>
    <!-- rubber tip with which to grasp -->
    <collision>
      <origin rpy="0 0 0" xyz="0 +7.58e-3 45.25e-3"/>
      <geometry>
        <box size="17.5e-3 15.2e-3 18.5e-3"/>
      </geometry>
    </collision>
  </link>
  <link name="panda_right_rightfinger">
    <inertial>
      <mass value="0.015"/>
      <inertia ixx="2.3749999999999997e-06" ixy="0" ixz="0" iyy="2.3749999999999997e-06" iyz="0" izz="7.5e-07"/>
    </inertial>
    <visual>
      <origin rpy="0 0 3.141592653589793" xyz="0 0 0"/>
      <geometry>
        <mesh filename="../meshes/franka/visual/finger.dae"/>
      </geometry>
    </visual>
    <!-- screw mount -->
    <collision>
      <origin rpy="0 0 0" xyz="0 -18.5e-3 11e-3"/>
      <geometry>
        <box size="22e-3 15e-3 20e-3"/>
      </geometry>
    </collision>
    <!-- cartriage sledge -->
    <collision>
      <origin rpy="0 0 0" xyz="0 -6.8e-3 2.2e-3"/>
      <geometry>
        <box size="22e-3 8.8e-3 3.8e-3"/>
      </geometry>
    </collision>
    <!-- diagonal finger -->
    <collision>
      <origin rpy="-0.5235987755982988 0 0" xyz="0 -15.9e-3 28.35e-3"/>
      <geometry>
        <box size="17.5e-3 7e-3 23.5e-3"/>
      </geometry>
    </collision>
    <!-- rubber tip with which to grasp -->
    <collision>
      <origin rpy="0 0 0" xyz="0 -7.58e-3 45.25e-3"/>
      <geometry>
        <box size="17.5e-3 15.2e-3 18.5e-3"/>
      </geometry>
    </collision>
  </link>
  <joint name="panda_right_finger_joint1" type="prismatic">
    <parent link="panda_right_hand"/>
    <child link="panda_right_leftfinger"/>
    <origin rpy="0 0 0" xyz="0 0 0.0584"/>
    <axis xyz="0 1 0"/>
    <limit effort="100" lower="0.0" upper="0.04" velocity="0.2"/>
    <dynamics damping="0.03" friction="0.0"/>
  </joint>
  <joint name="panda_right_finger_joint2" type="prismatic">
    <parent link="panda_right_hand"/>
    <child link="panda_right_rightfinger"/>
    <origin rpy="0 0 0" xyz="0 0 0.0584"/>
    <axis xyz="0 -1 0"/>
    <limit effort="100" lower="0.0" upper="0.04" velocity="0.2"/>
    <dynamics damping="0.03" friction="0.0"/>
  </joint>
</robot>
